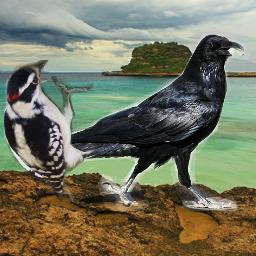Crow: (31, 34, 250, 211)
Woodpecker: (4, 60, 96, 202)
